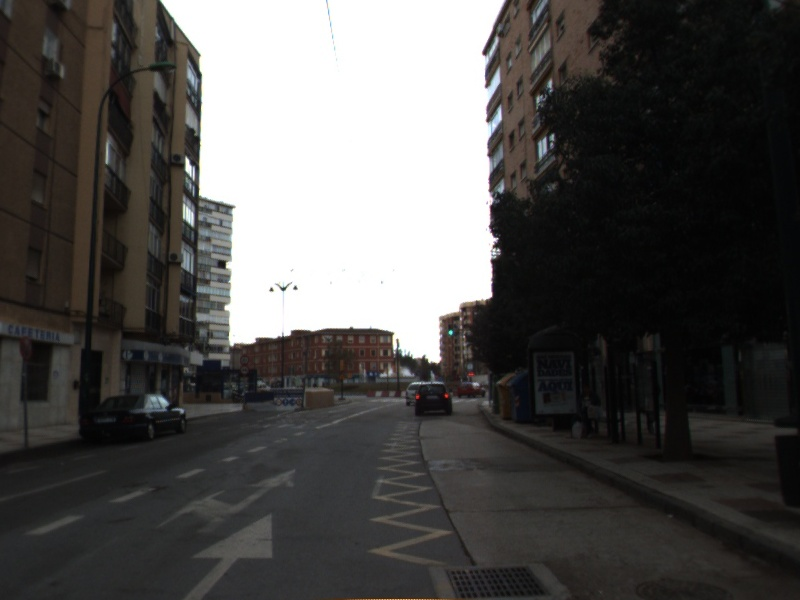STRAIGHT: (179, 511, 276, 600)
STRAIGHT_LEFT: (152, 467, 298, 537)
